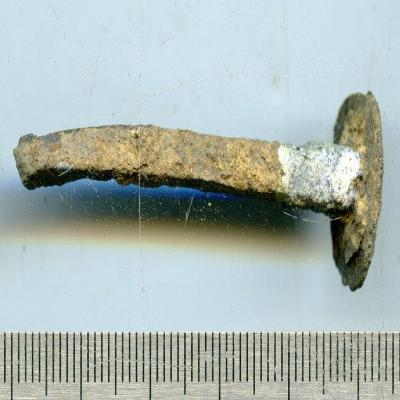archeology: (12, 93, 385, 293)
